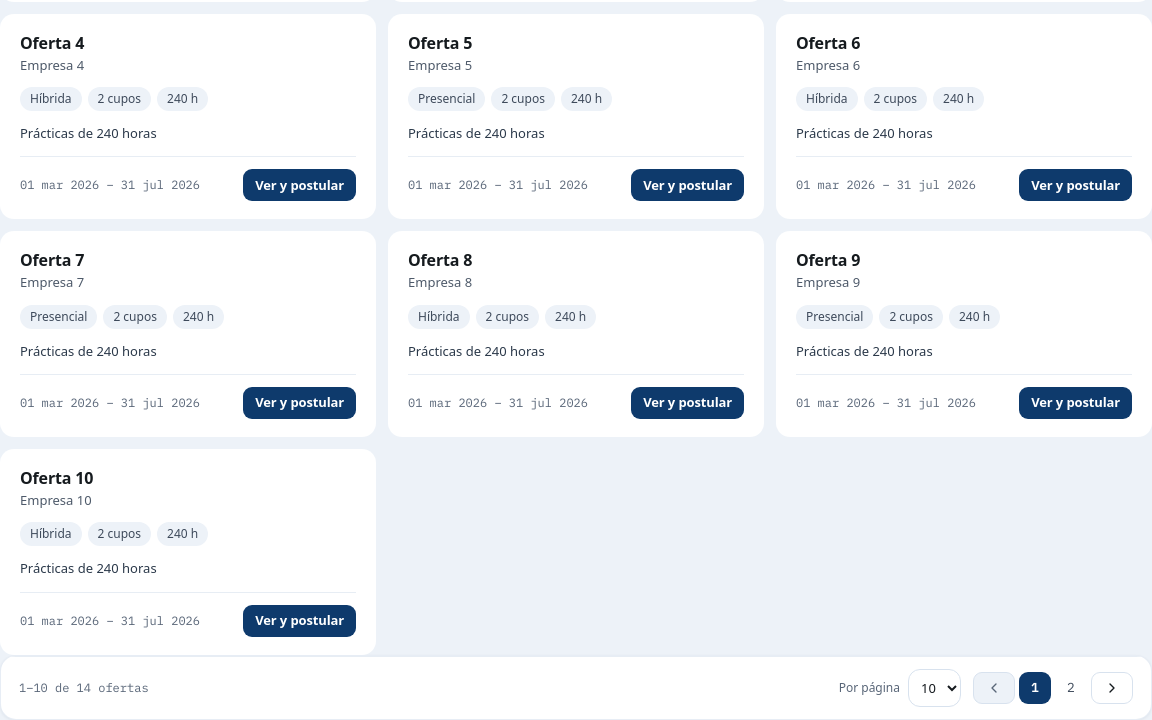
Scenario: OffersPage › shows 10 offers per page and moves to the next page
(page scrolled)
Expected: the text "1–10 de 14 ofertas" is shown, [19,678,149,696]
Click the button named "Página 2" at coordinates (1071, 688), box [1055,672,1087,704]
(page scrolled)
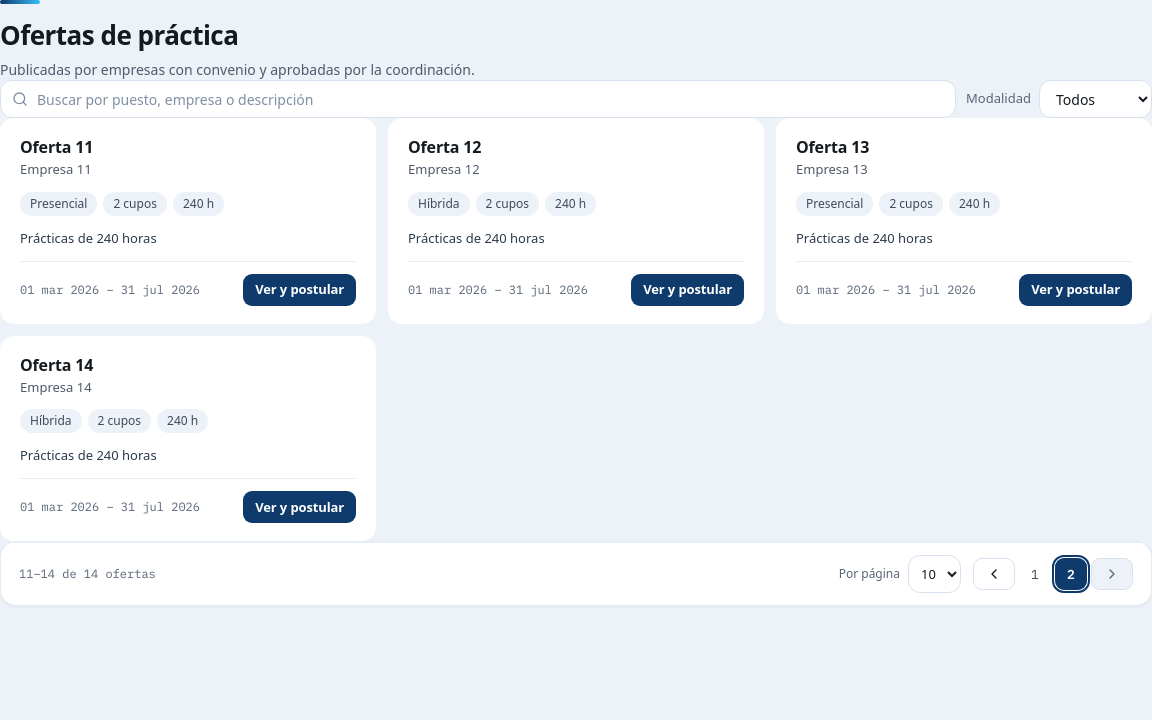
Expected: the text "11–14 de 14 ofertas" is shown, [19,565,156,583]
